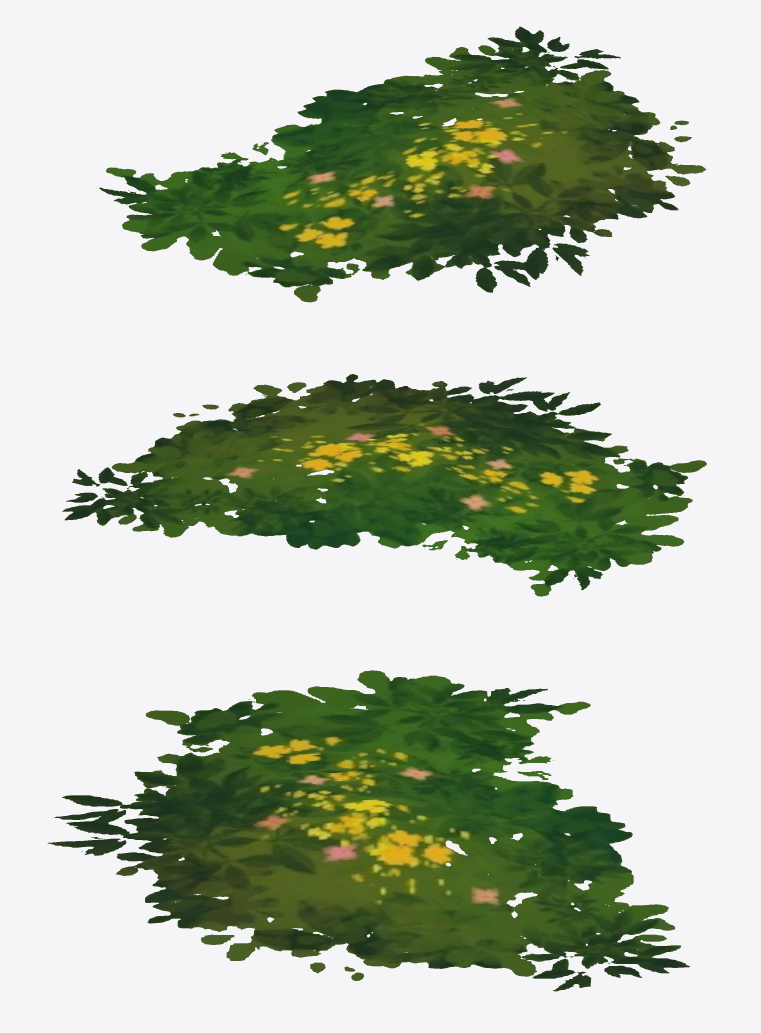
File: SM_Seamoss_04.fbx
3 views of the same model, one above another, from view 1: azimuth 30°, elevation 25°; view 2: azimuth 150°, elevation 25°; view 3: azimuth 270°, elevation 25° (orthographic). The views are drawn at different scales.
Visible parts, largest first — view 1: SM_Seamoss_04; view 2: SM_Seamoss_04; view 3: SM_Seamoss_04.
Boxes of the visible parts, x1=… form: SM_Seamoss_04: x1=99, y1=26, x2=706, y2=302; SM_Seamoss_04: x1=62, y1=374, x2=706, y2=596; SM_Seamoss_04: x1=47, y1=670, x2=690, y2=991.
Size of the model in its own units: 0.4754 by 0.0184 by 0.3936.
1 material, 1 textured.
